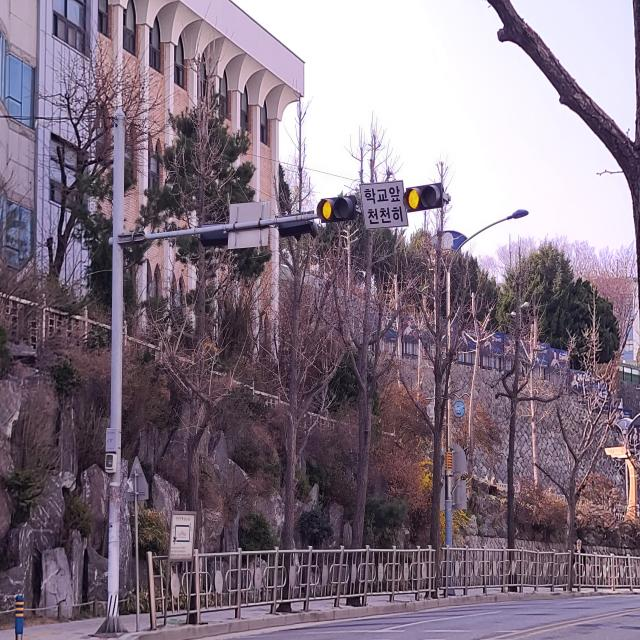Yellow Light: (319, 197, 333, 222), (407, 186, 421, 209)
